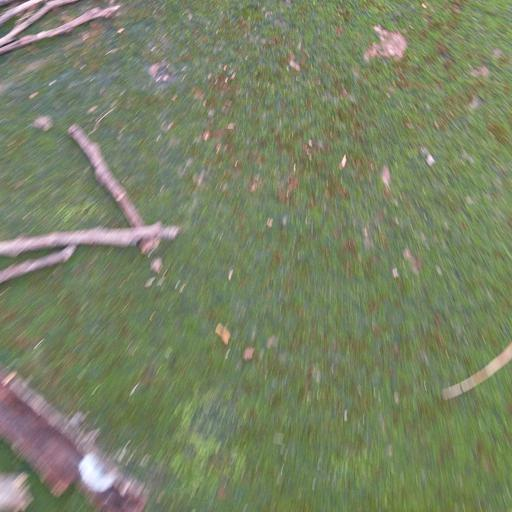algae: (2, 0, 512, 512)
